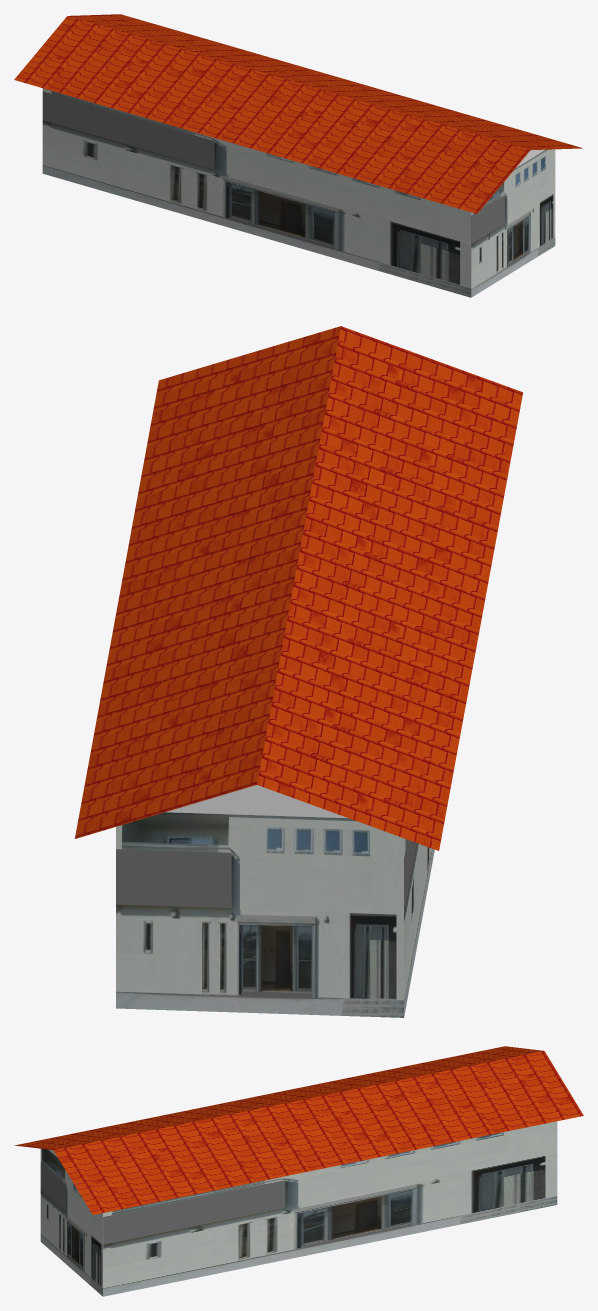
3 renders of one model, top to bottom at view 1: azimuth 30°, elevation 25°; view 2: azimuth 150°, elevation 25°; view 3: azimuth 270°, elevation 25°, orthographic. The views are drawn at different scales.
Visible parts, largest first — view 1: CityEngineMaterial_12_m, CityEngineMaterial_11_m; view 2: CityEngineMaterial_12_m, CityEngineMaterial_11_m, CityEngineMaterial_3_m; view 3: CityEngineMaterial_11_m, CityEngineMaterial_12_m.
Part boxes in pixels (x1,y1,x2,y2): CityEngineMaterial_12_m: [14, 14, 582, 213]; CityEngineMaterial_11_m: [42, 88, 555, 297]; CityEngineMaterial_12_m: [75, 326, 522, 850]; CityEngineMaterial_11_m: [116, 812, 434, 1017]; CityEngineMaterial_3_m: [165, 785, 347, 818]; CityEngineMaterial_11_m: [40, 1121, 557, 1296]; CityEngineMaterial_12_m: [14, 1046, 583, 1214].
Bounding box in the file's own units: 19.61 × 6.65 × 27.96.
